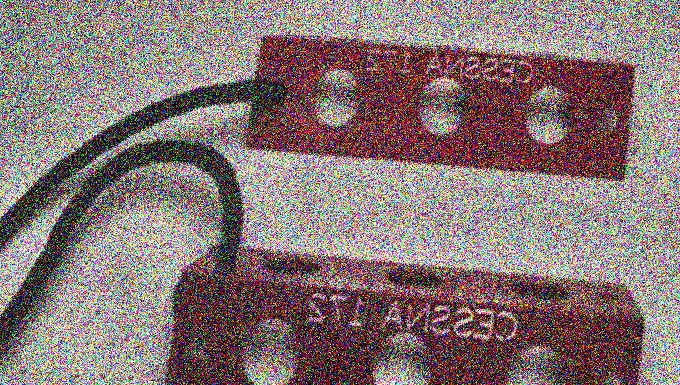chock: (142, 239, 651, 385), (226, 30, 642, 185)
